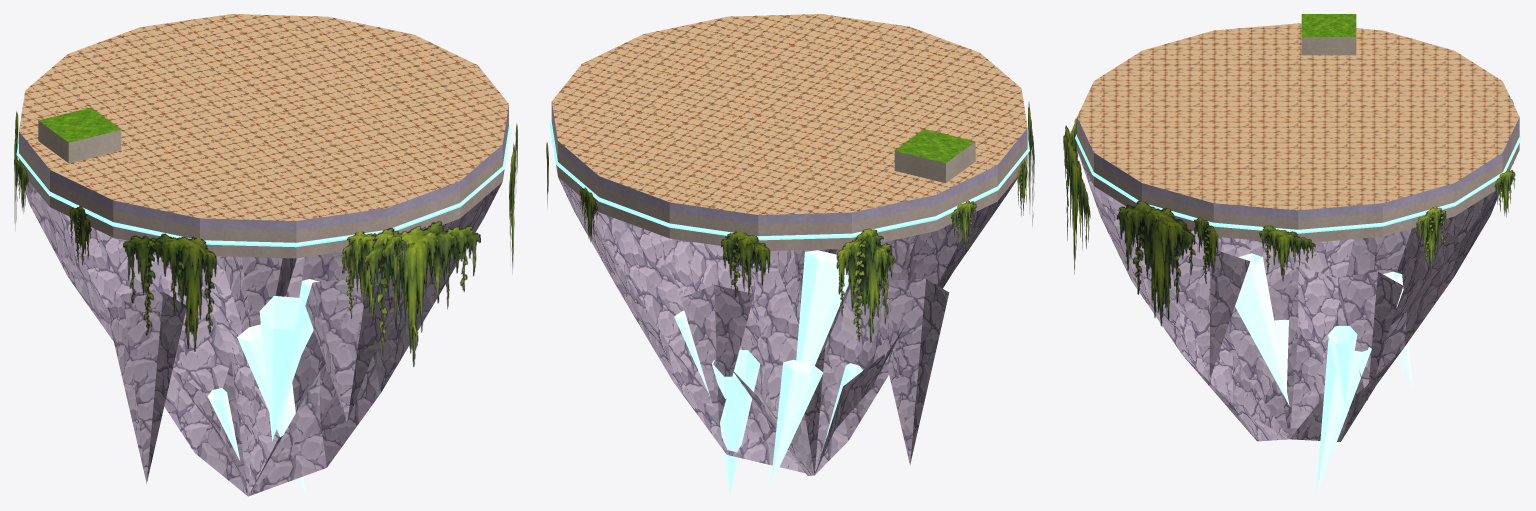
The model's file is SKY_ISLAND_08.glb.
The picture shows the model from 3 angles, left to right: view 1: azimuth 30°, elevation 25°; view 2: azimuth 150°, elevation 25°; view 3: azimuth 270°, elevation 25°; orthographic projection. The views are drawn at different scales.
Parts seen in each view (by area): view 1: S_Fountain_Skin.001, S_Fountain_Moss.001, S_Fountain_Crystals.001; view 2: S_Fountain_Skin.001, S_Fountain_Crystals.001, S_Fountain_Moss.001; view 3: S_Fountain_Skin.001, S_Fountain_Moss.001, S_Fountain_Crystals.001.
Boxes of the visible parts, x1,y1,x2,y2 form: S_Fountain_Skin.001: (16,14,511,496); S_Fountain_Moss.001: (14,111,517,366); S_Fountain_Crystals.001: (207,279,319,496); S_Fountain_Skin.001: (549,14,1029,475); S_Fountain_Crystals.001: (674,250,862,496); S_Fountain_Moss.001: (546,101,1034,342); S_Fountain_Skin.001: (1075,14,1521,441); S_Fountain_Moss.001: (1063,99,1515,326); S_Fountain_Crystals.001: (1235,253,1412,496).
Bounding box in the file's own units: 18.53 × 16.87 × 18.65.
7 materials, 5 textured.
